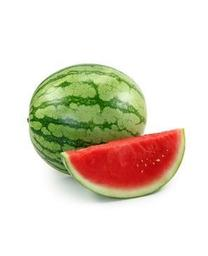watermelon: (29, 65, 149, 178), (55, 127, 188, 199)
